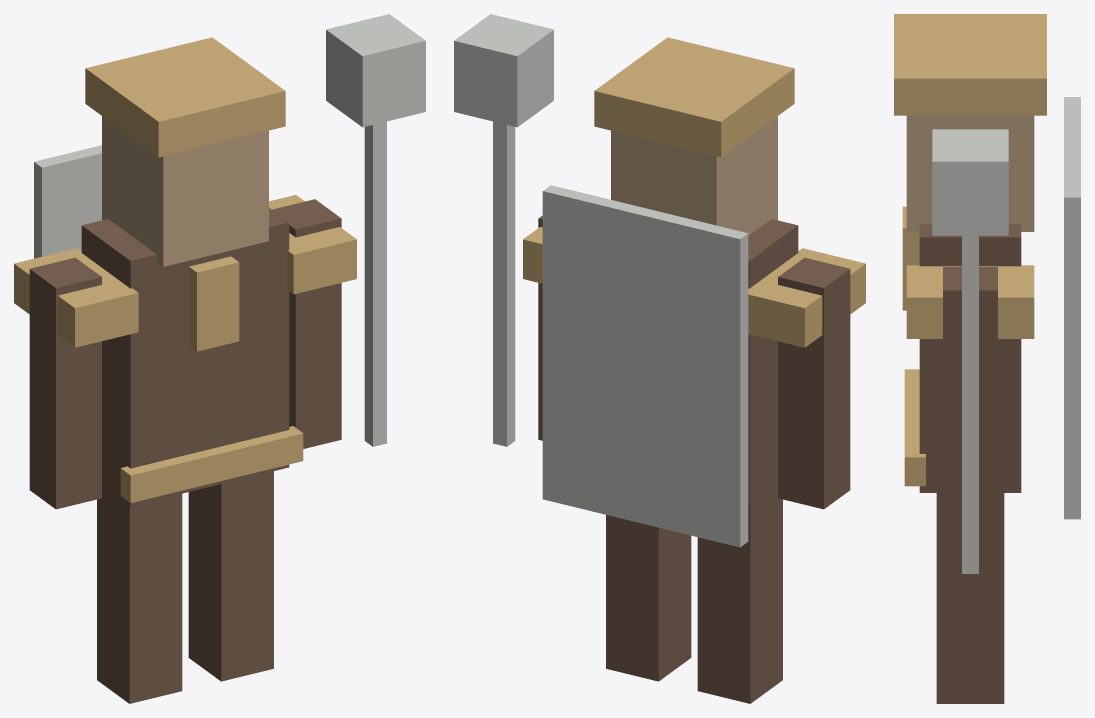
Rendered from 05_ilyra_riftwalker_oracle_of_scholar.glb.
The picture shows the model from 3 angles, left to right: view 1: azimuth 30°, elevation 25°; view 2: azimuth 150°, elevation 25°; view 3: azimuth 270°, elevation 25°; orthographic projection. The views are drawn at different scales.
Visible parts, largest first — view 1: Ilyra Riftwalker, Oracle of Scholar; view 2: Ilyra Riftwalker, Oracle of Scholar; view 3: Ilyra Riftwalker, Oracle of Scholar.
Boxes of the visible parts, <box> form: Ilyra Riftwalker, Oracle of Scholar: <box>14,14,425,703</box>; Ilyra Riftwalker, Oracle of Scholar: <box>454,14,865,703</box>; Ilyra Riftwalker, Oracle of Scholar: <box>894,14,1080,703</box>.
Bounding box in the file's own units: 0.9855 × 1.54 × 0.4189.
